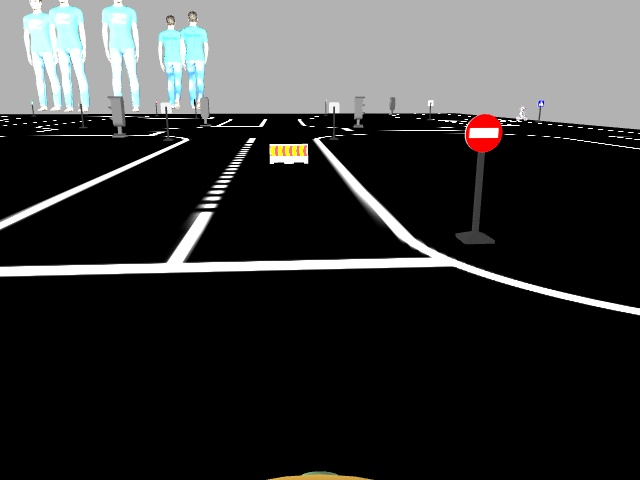ClosedRoadStand: (270, 144, 305, 160)
NoEntry: (463, 114, 501, 151)
